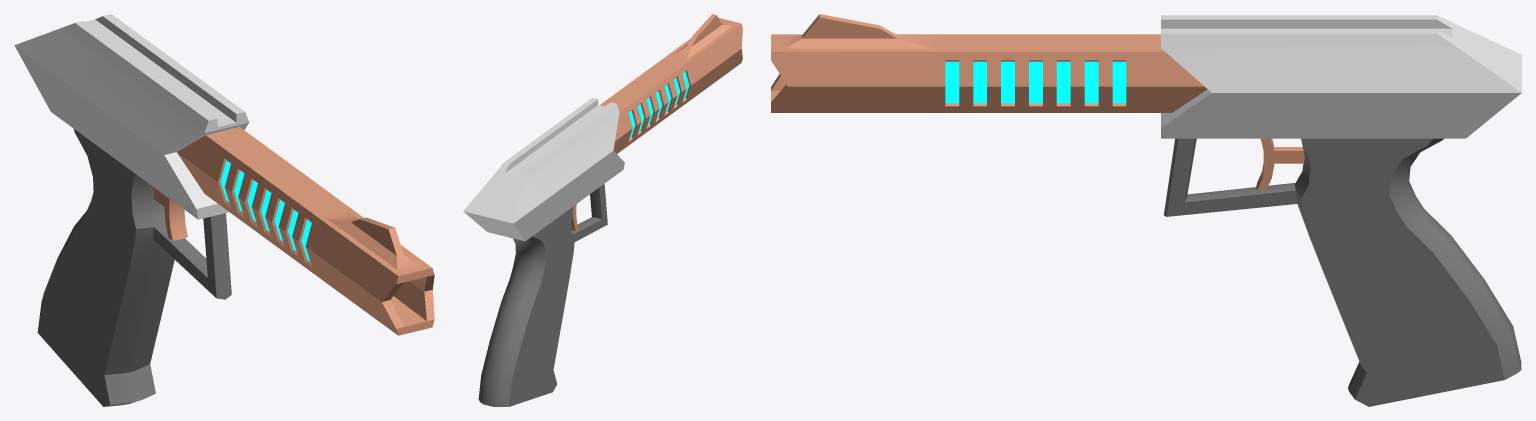
Rendered from Pistol1.fbx.
3 renders of one model, left to right at view 1: azimuth 30°, elevation 25°; view 2: azimuth 150°, elevation 25°; view 3: azimuth 270°, elevation 25°, orthographic. The views are drawn at different scales.
Visible parts, largest first — view 1: Zapper; view 2: Zapper; view 3: Zapper.
Part boxes in pixels (x1,y1,x2,y2): Zapper: (14,14,434,406); Zapper: (463,14,742,406); Zapper: (771,14,1521,406).
Bounding box in the file's own units: 267 × 1236 × 2215.
